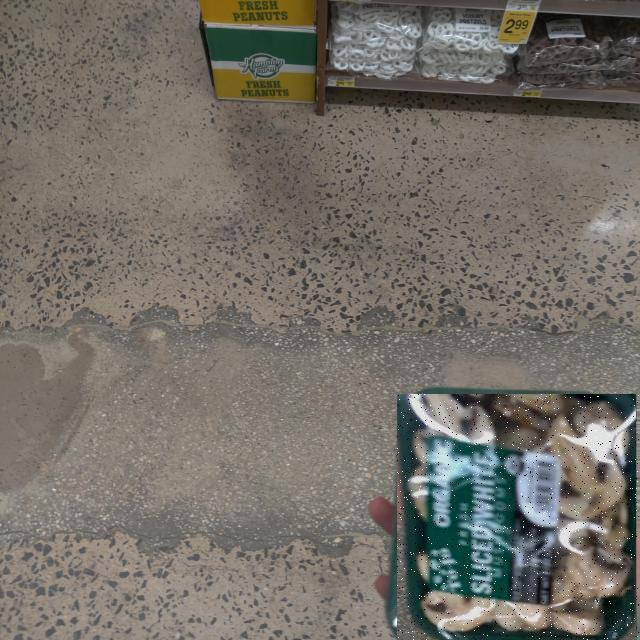Mushroom: (398, 394, 640, 640)
